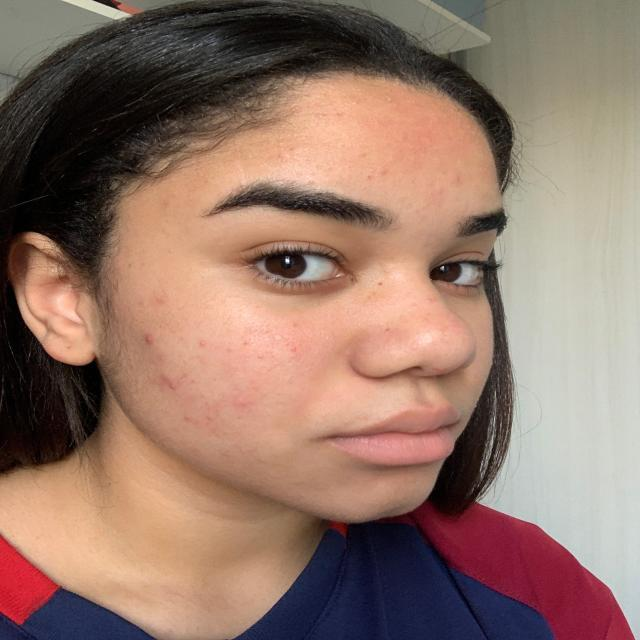acne: (154, 374, 188, 390), (413, 330, 438, 348), (137, 332, 157, 348), (314, 112, 346, 120), (272, 154, 290, 166), (342, 142, 360, 154), (180, 412, 198, 424), (433, 184, 447, 198), (196, 393, 210, 405), (136, 260, 152, 270), (188, 374, 204, 384), (216, 450, 232, 460), (133, 298, 146, 310), (376, 166, 395, 174), (151, 354, 170, 362), (240, 401, 255, 411), (153, 297, 169, 306), (286, 345, 304, 353), (362, 171, 376, 181), (285, 146, 299, 156), (206, 413, 220, 423), (161, 196, 173, 206), (222, 346, 239, 353), (194, 340, 208, 348), (456, 174, 464, 186), (383, 98, 395, 106), (256, 352, 268, 360), (210, 376, 222, 384), (164, 248, 178, 254), (302, 181, 322, 185), (240, 340, 252, 346)
pores: (284, 358, 322, 385), (316, 324, 338, 343)
